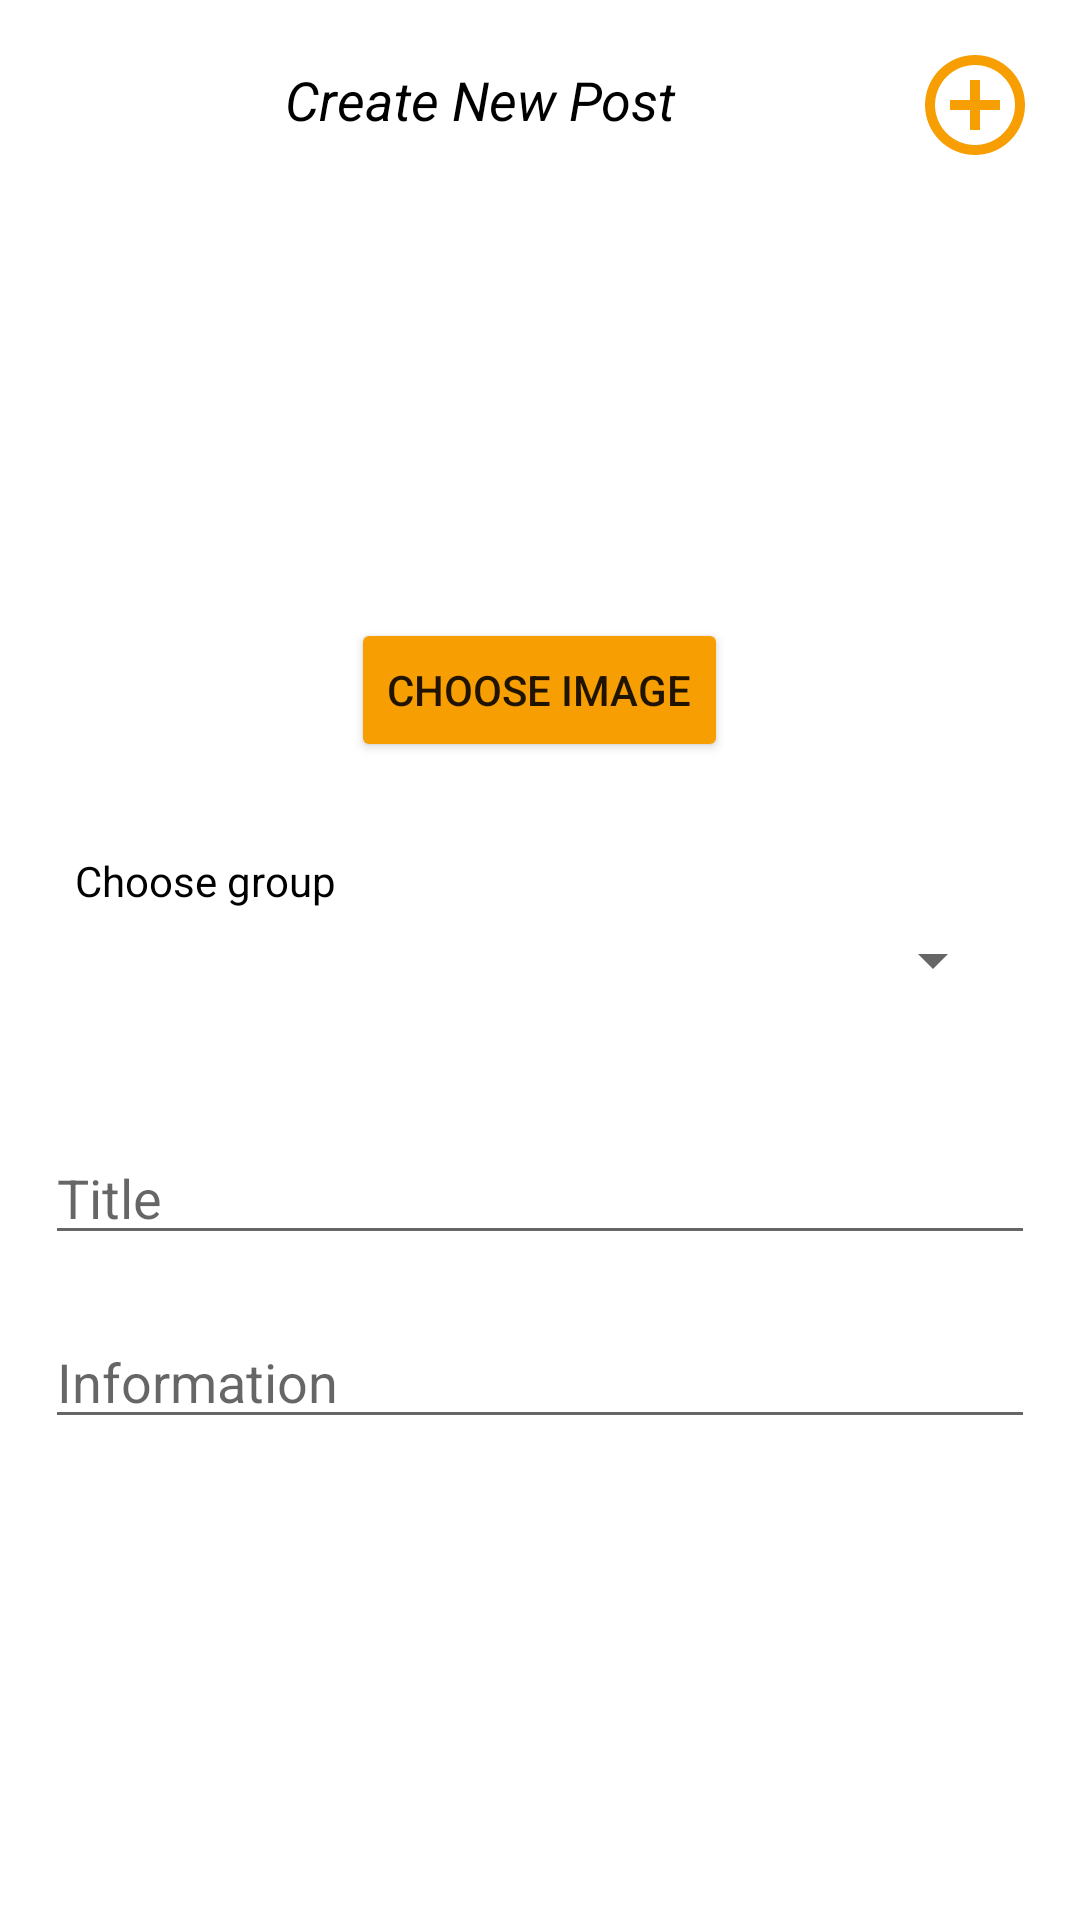

Named icons in this screenshot (1080*1920) and their bounding boxes, (x1=x1, y1=y1, x2=x2, y2=y2):
add circle: (x1=925, y1=55, x2=1025, y2=155)
